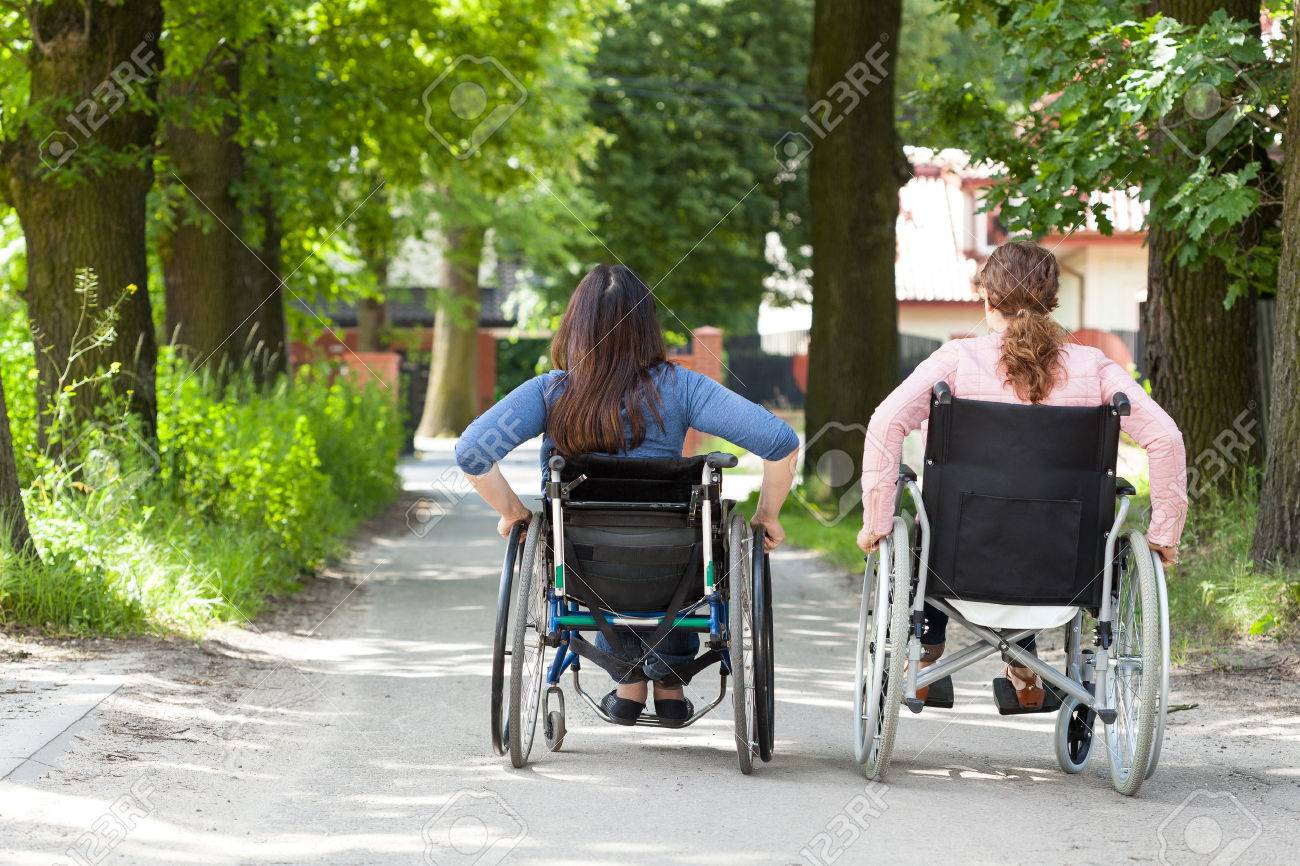person: (862, 227, 1194, 534), (464, 268, 809, 506)
wheelchair: (850, 495, 1194, 797), (469, 500, 787, 786)
